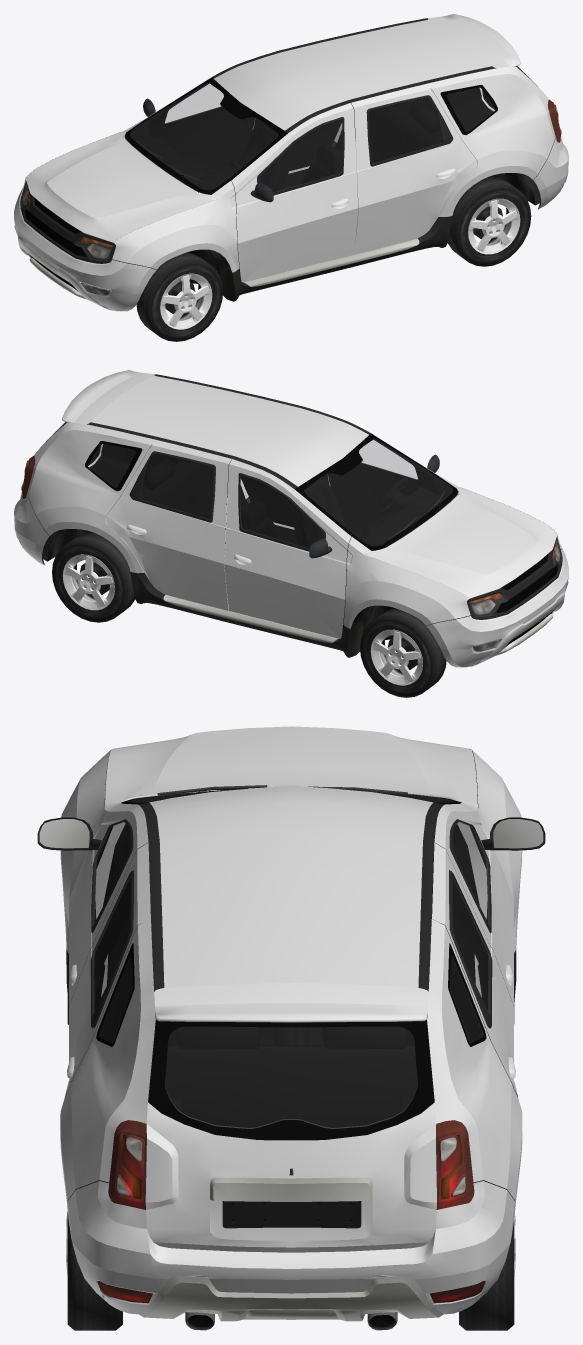
File: suv.glb
3 views of the same model, one above another, from view 1: azimuth 30°, elevation 25°; view 2: azimuth 150°, elevation 25°; view 3: azimuth 270°, elevation 25° (orthographic). The views are drawn at different scales.
Parts seen in each view (by area): view 1: body_dust_body_0, glass_dust_glass_0, interior_dust_void_0, bottom_dust_bottom_0, wheels_WX220_tier_1t_0, wheels_dust_bottom_0, glass_rim_dust_glass_rim_0, Object001_dust_bottom_0, light_dust_headlights_0; view 2: body_dust_body_0, glass_dust_glass_0, interior_dust_void_0, bottom_dust_bottom_0, wheels_WX220_tier_1t_0, wheels_dust_bottom_0, glass_rim_dust_glass_rim_0, Object001_dust_bottom_0, light_dust_headlights_0; view 3: body_dust_body_0, glass_dust_glass_0, interior_dust_void_0, bottom_dust_bottom_0, glass_rim_dust_glass_rim_0, Object001_dust_bottom_0, light_dust_headlights_0, wheels_WX220_tier_1t_0.
Part boxes in pixels (x1,y1,x2,y2): body_dust_body_0: (14,14,568,311); glass_dust_glass_0: (130,66,524,192); interior_dust_void_0: (130,74,495,280); bottom_dust_bottom_0: (20,18,555,313); wheels_WX220_tier_1t_0: (136,177,531,341); wheels_dust_bottom_0: (160,198,520,329); glass_rim_dust_glass_rim_0: (125,66,537,194); Object001_dust_bottom_0: (18,236,112,310); light_dust_headlights_0: (14,99,563,295); body_dust_body_0: (14,370,568,667); glass_dust_glass_0: (57,422,452,548); interior_dust_void_0: (88,439,452,636); bottom_dust_bottom_0: (27,374,562,669); wheels_WX220_tier_1t_0: (52,533,446,697); wheels_dust_bottom_0: (63,554,422,685); glass_rim_dust_glass_rim_0: (40,422,457,550); Object001_dust_bottom_0: (470,592,564,666); light_dust_headlights_0: (19,455,568,651); body_dust_body_0: (60,726,522,1314); glass_dust_glass_0: (94,790,488,1128); interior_dust_void_0: (65,791,517,1127); bottom_dust_bottom_0: (37,749,545,1330); glass_rim_dust_glass_rim_0: (96,790,486,1140); Object001_dust_bottom_0: (139,1275,443,1321); light_dust_headlights_0: (97,1120,485,1303); wheels_WX220_tier_1t_0: (67,996,514,1330).
Bounding box in the file's own units: 169 × 59.85 × 74.94.
7 materials, 3 textured.
